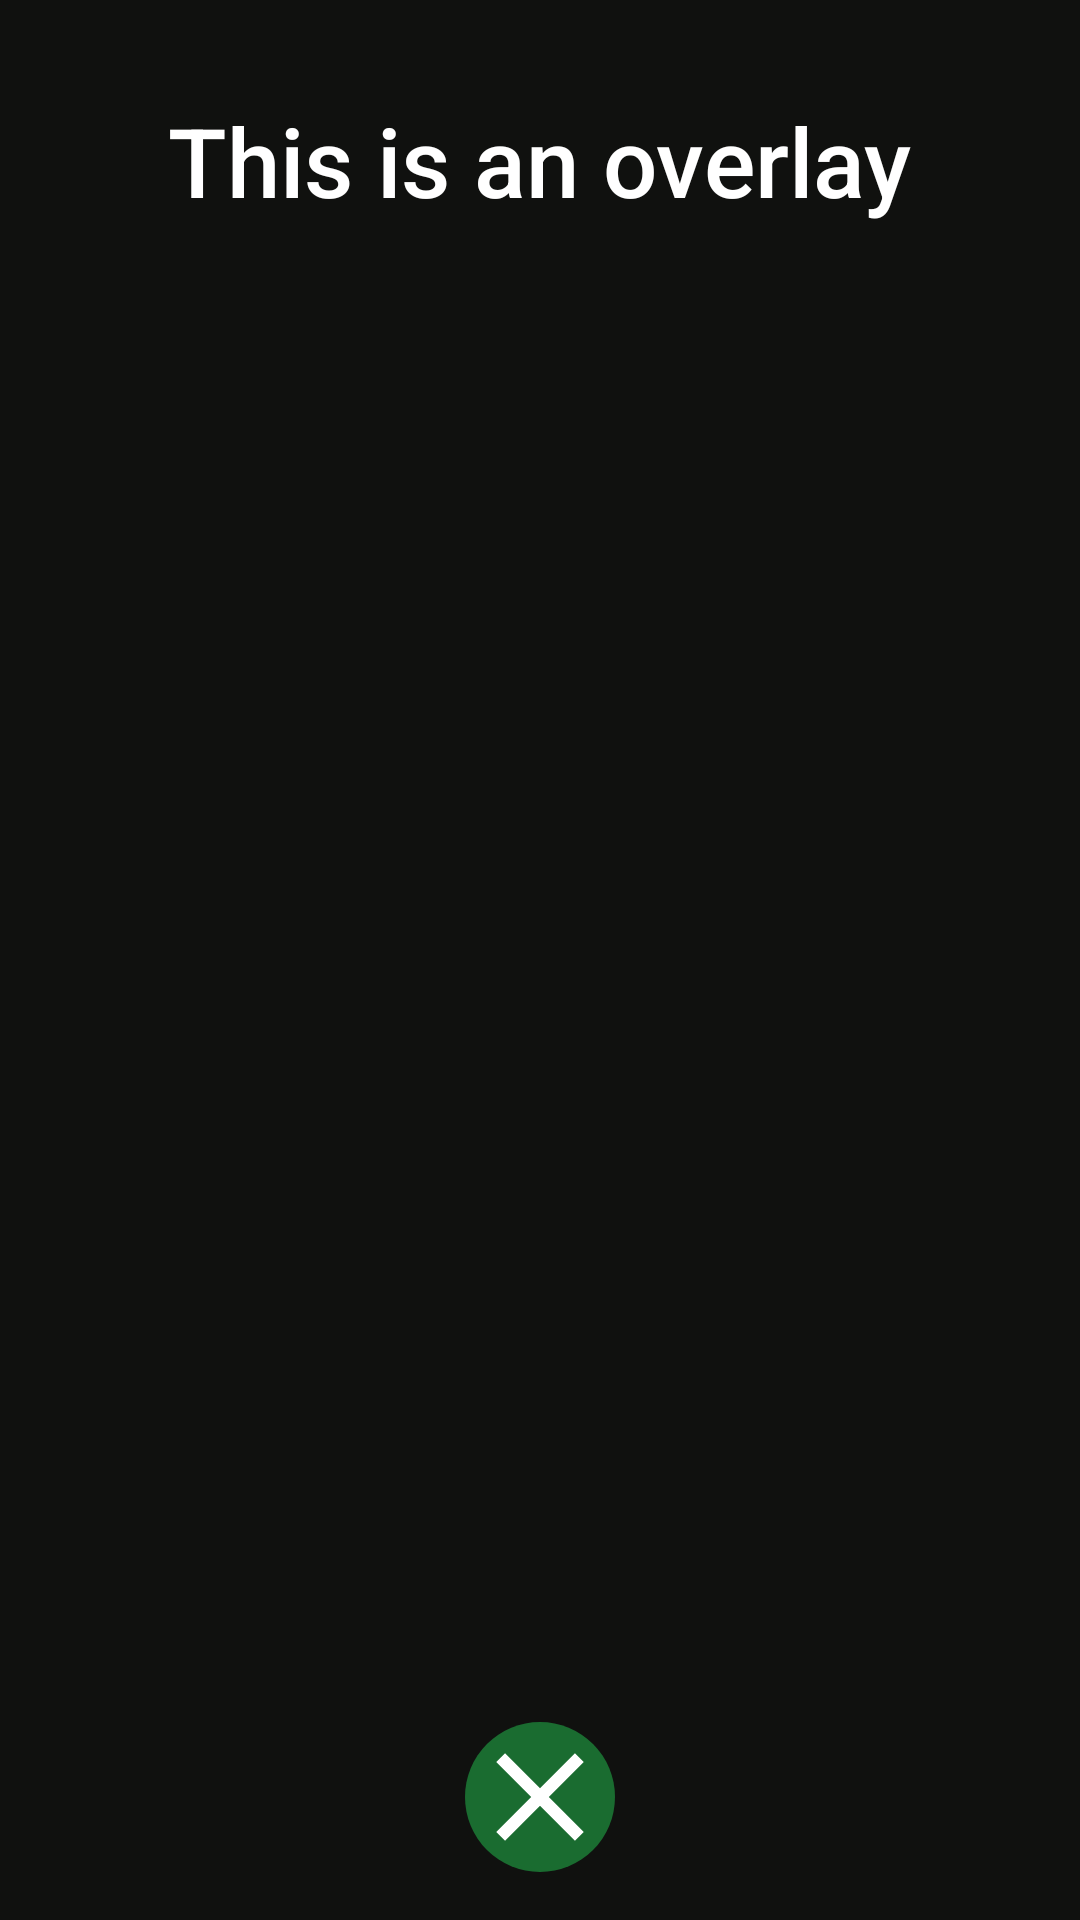

Where to tap for icons on this 1080x1920 app screen, as [x,y]:
close: [540,1797]
